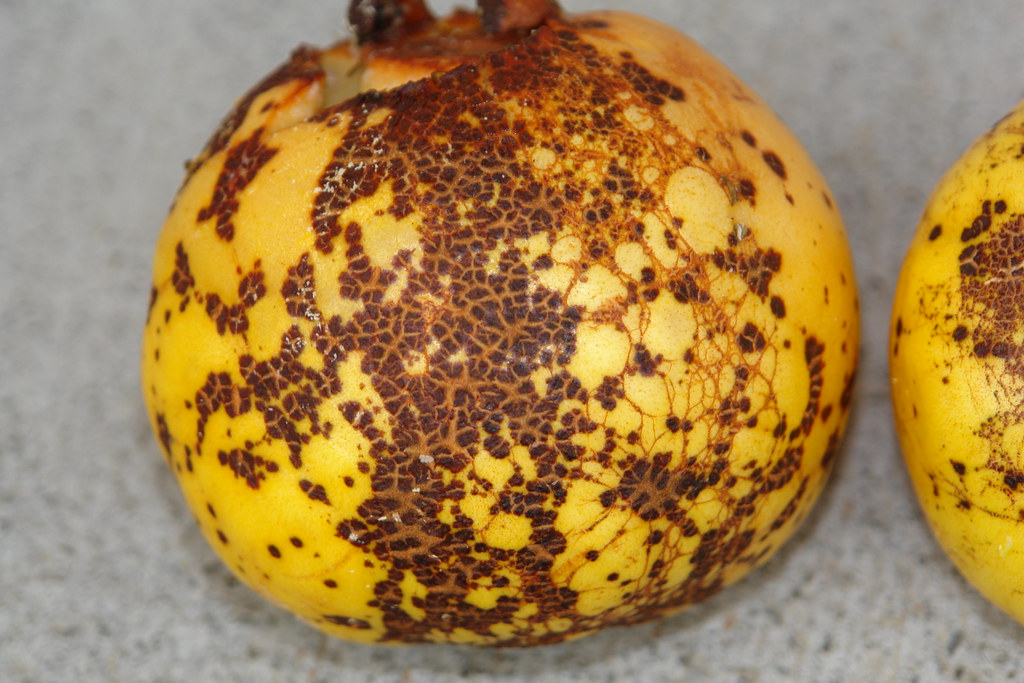guava: (52, 0, 930, 611)
